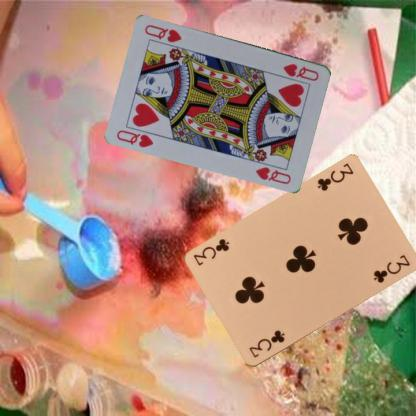3c: (314, 161, 355, 193), (246, 328, 286, 360)
Qh: (115, 127, 156, 149), (280, 61, 321, 82)
